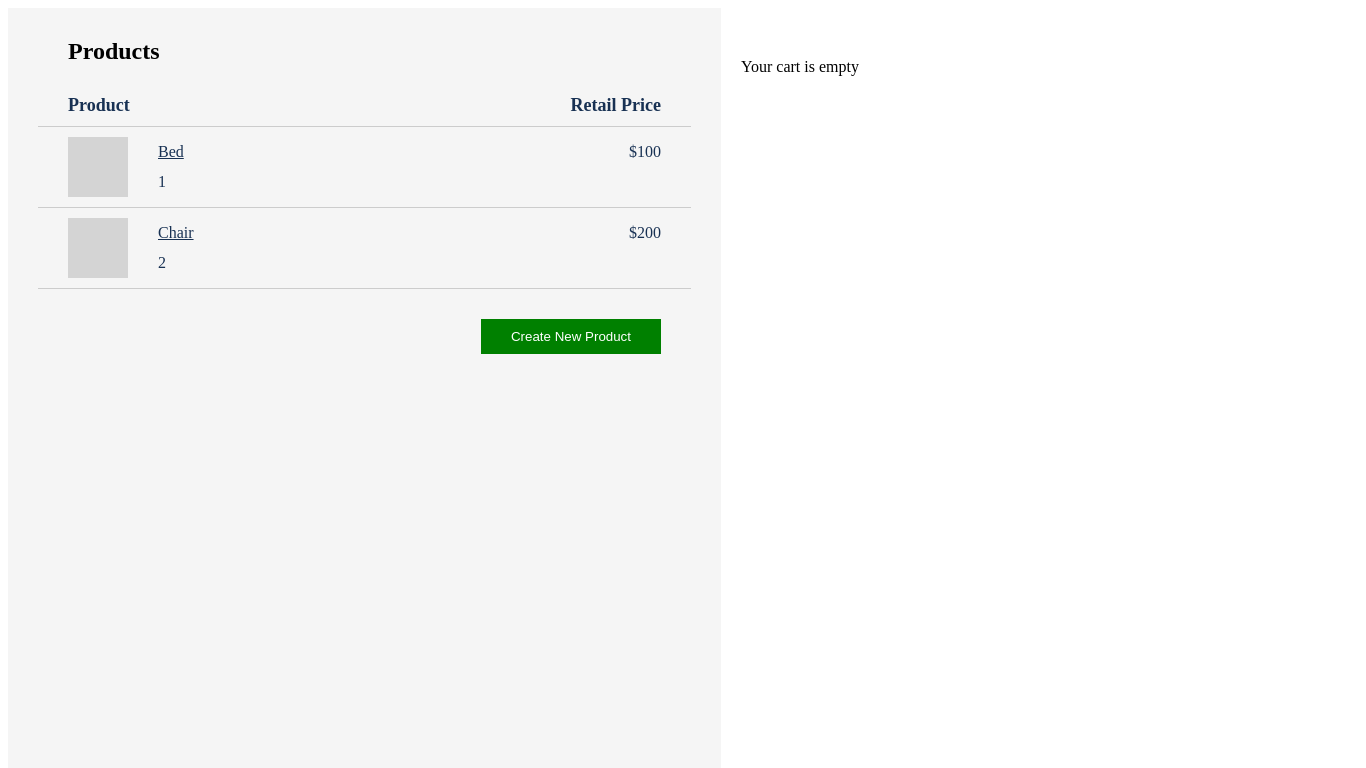
Test: App component › update qty pay section update correctly
The width and height of the screenshot is (1366, 768).
// user add Bed to cart
Click the text "Bed" at (171, 152), box [158,143,184,160]
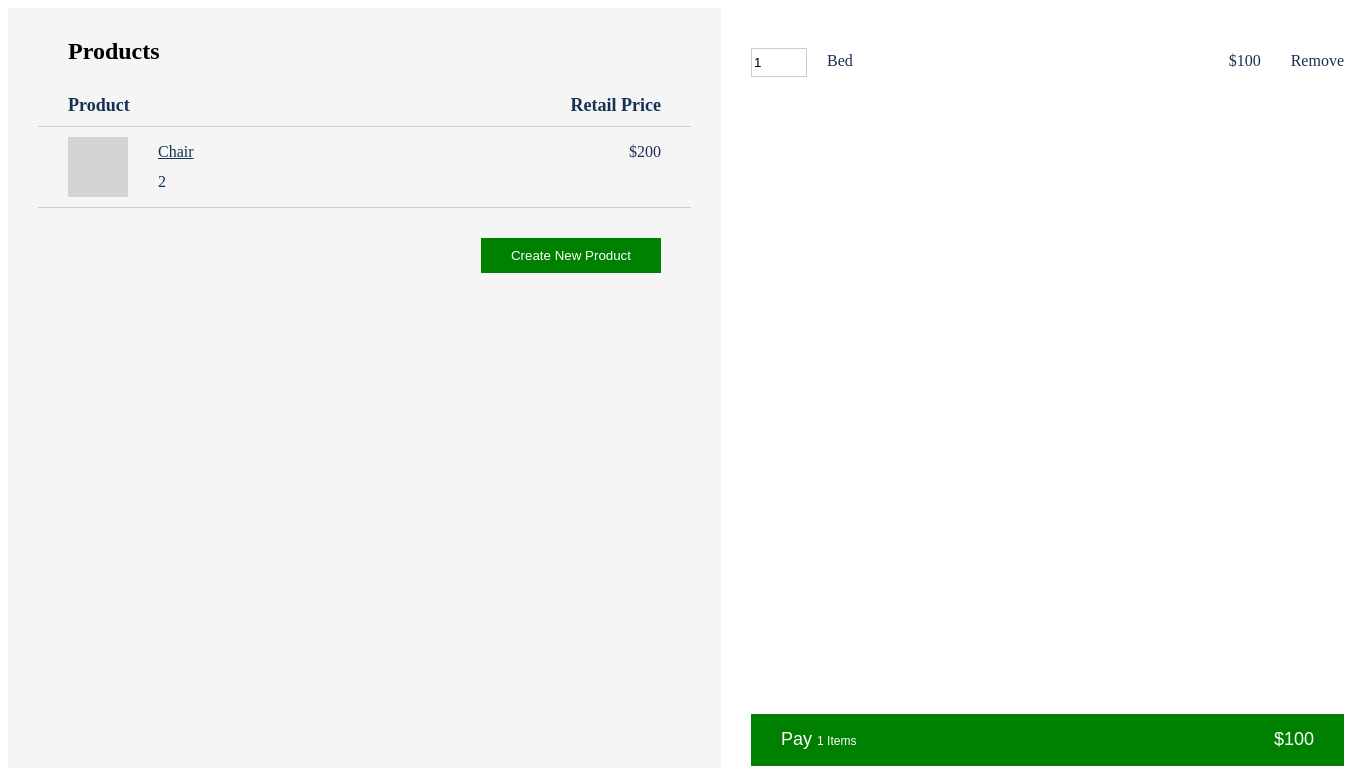
// user update qty of Bed to 3
Type "3" into the field with test id "item-1-qty" at (779, 62), box [751,48,807,77]
Then press Enter
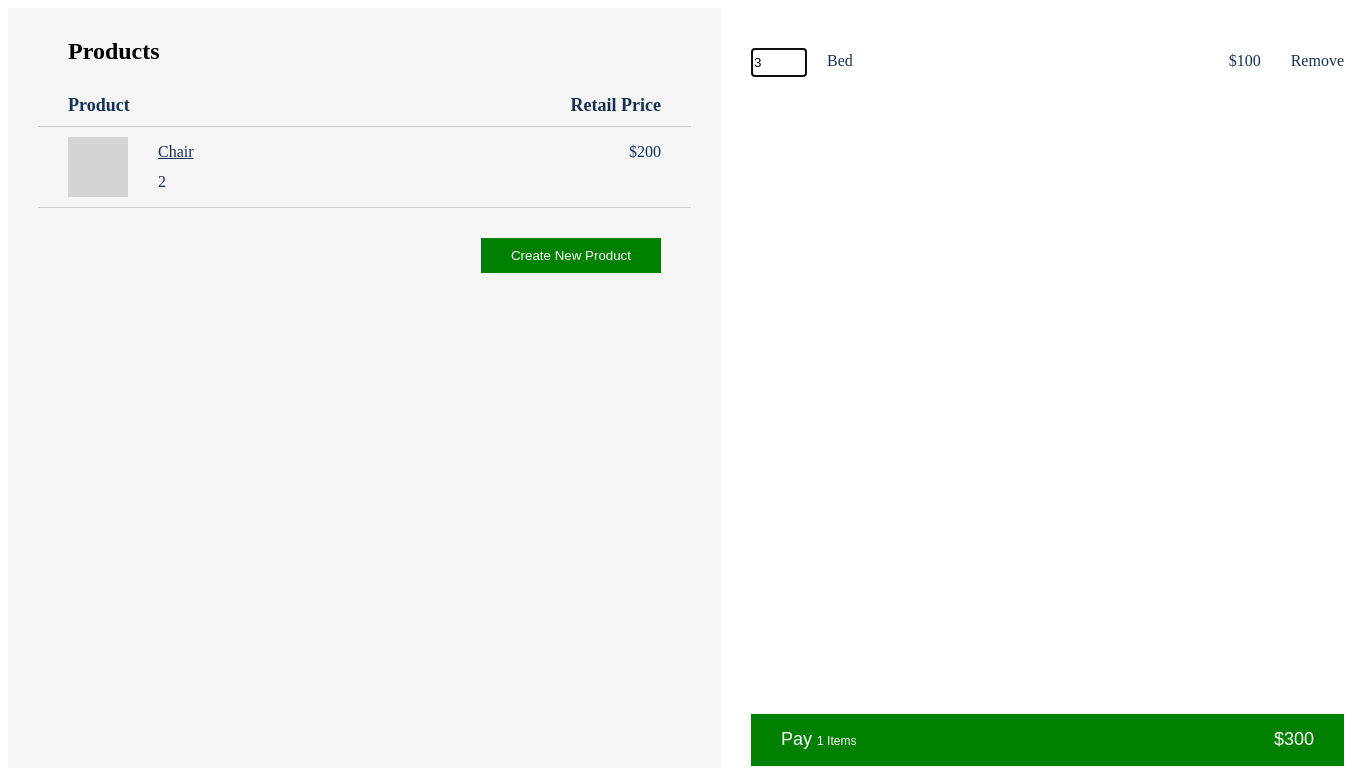
Expected: the text "$300" is shown, [1274,729,1314,749]
